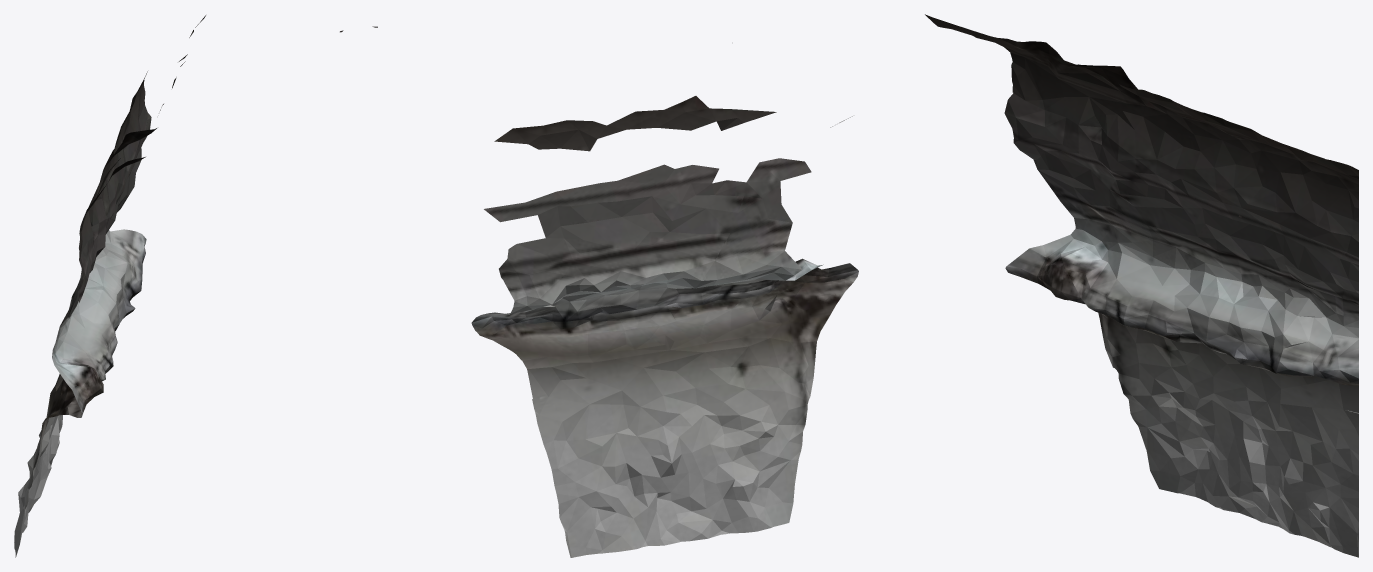
The picture shows the model from 3 angles, left to right: view 1: azimuth 30°, elevation 25°; view 2: azimuth 150°, elevation 25°; view 3: azimuth 270°, elevation 25°; orthographic projection. The views are drawn at different scales.
Bounding box in the file's own units: 0.7726 × 0.8374 × 0.6948.
2 materials, 2 textured.
